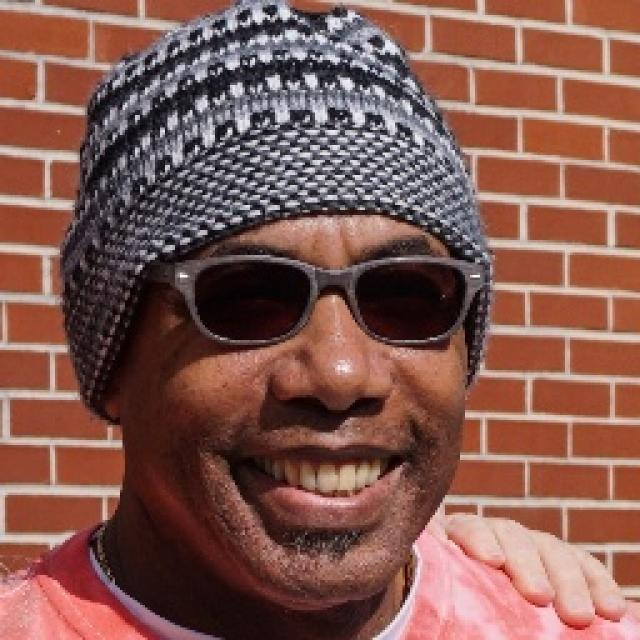eye: (366, 274, 440, 305), (214, 280, 288, 306)
nose: (273, 389, 402, 448)
